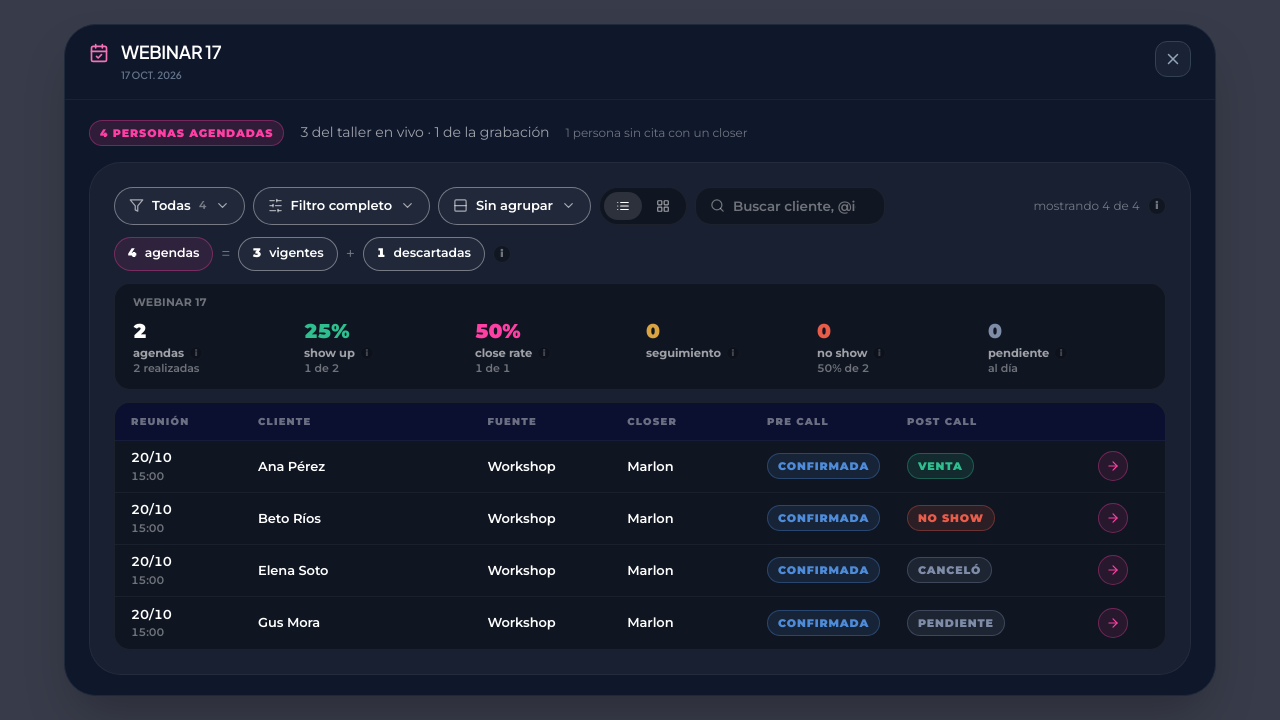
Scenario: ModalAgendasTaller › se filtra por estado con el filtro rápido de Revisar
The image size is (1280, 720).
Expected: the text "Ana Pérez" is shown, [258,458,325,474]
Click the button "Todas 4" at (179, 206), box [114,187,245,225]
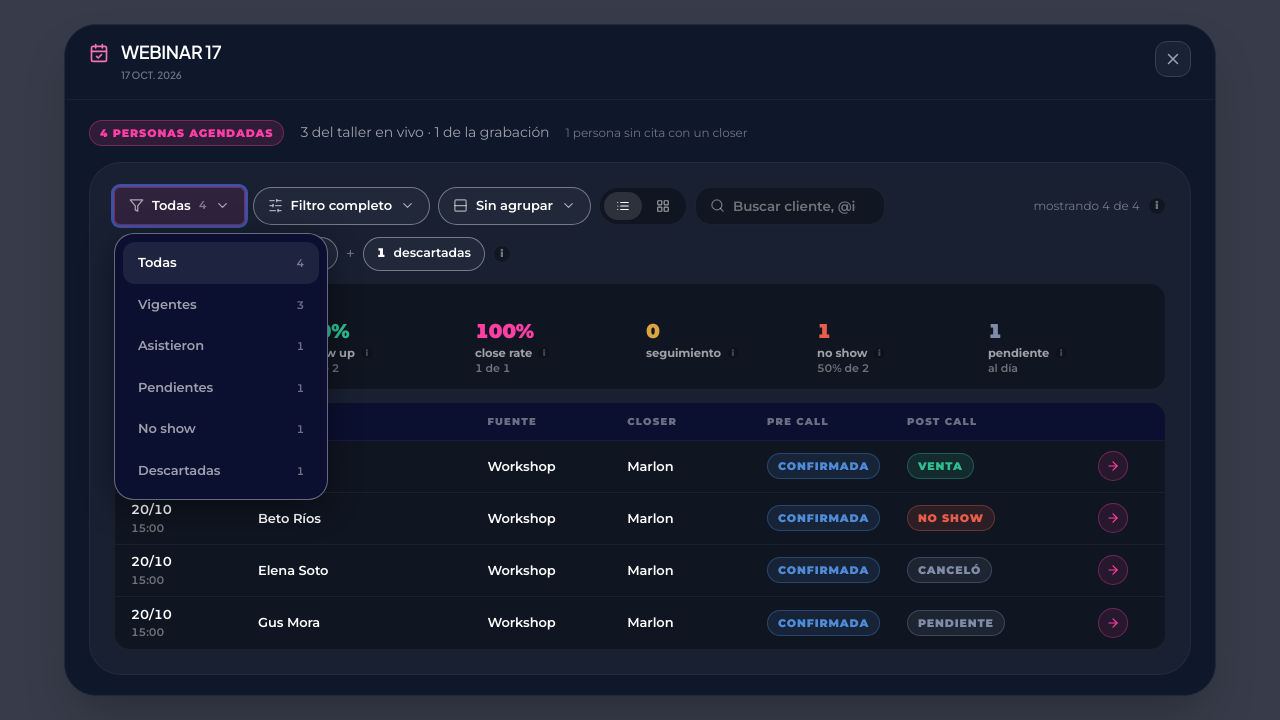
Click the menu item "No show 1" at (221, 429), box [123,408,319,450]
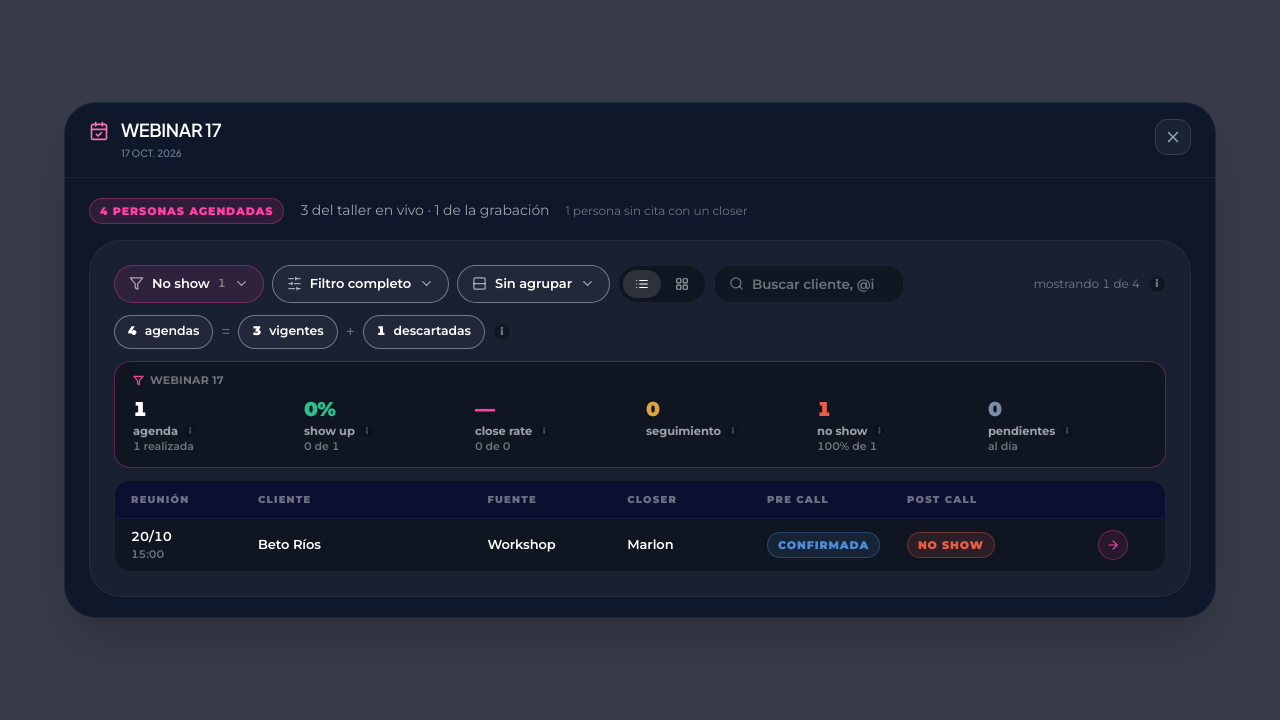
Expected: the text "Beto Ríos" is shown, [258,536,321,552]
Now the button "Ana Pérez" is gone
Now the text "mostrando 1 de 4" is shown, box [1034,275,1140,292]
